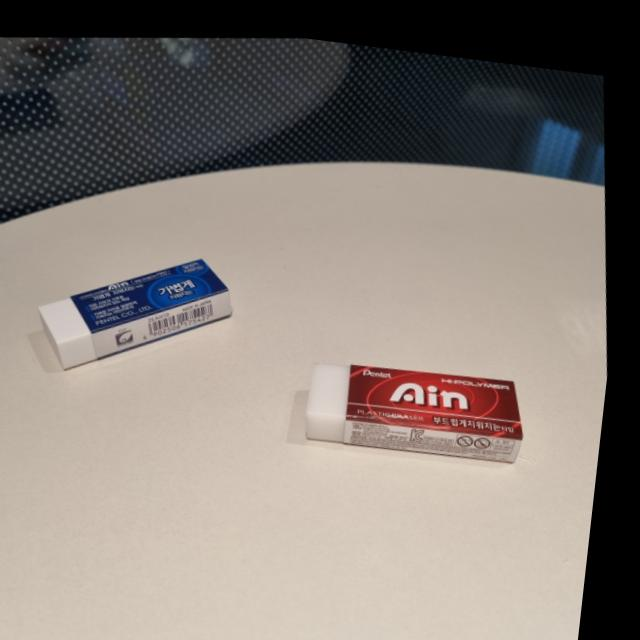blue: (33, 229, 253, 386)
red: (298, 322, 546, 481)
